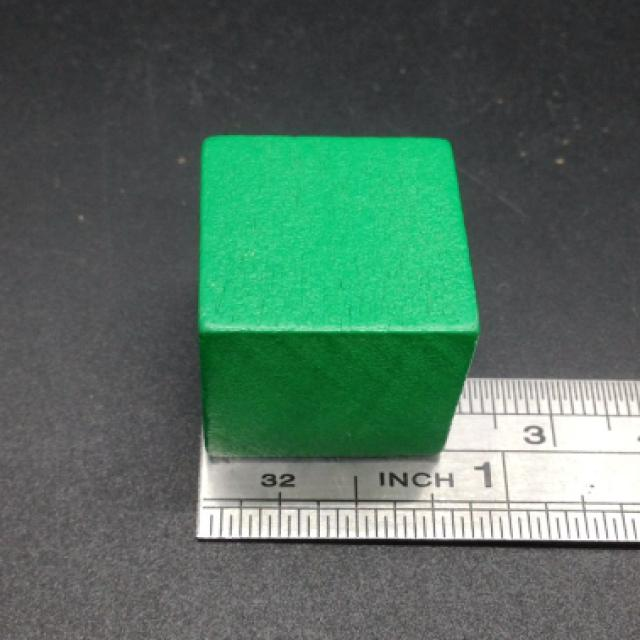green cube: (199, 131, 485, 460)
